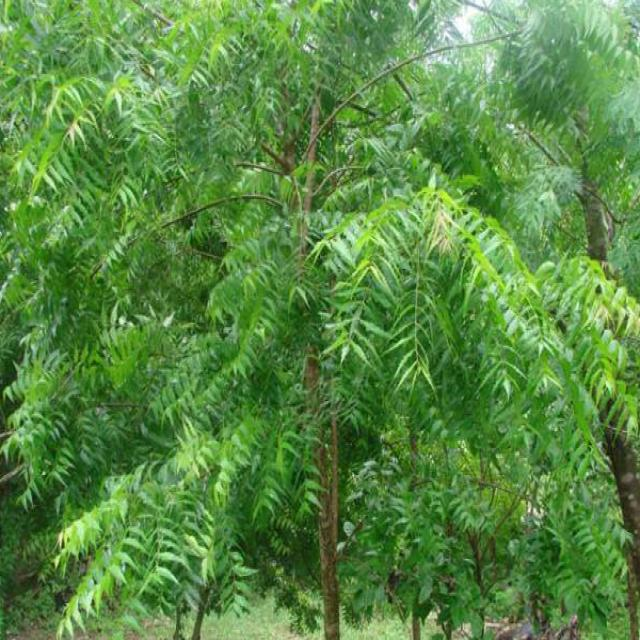Medicinal-Neem: (45, 233, 283, 640), (313, 181, 555, 406), (22, 38, 210, 218), (371, 480, 486, 608)
